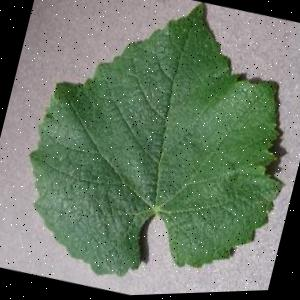Folha: (4, 0, 300, 300)
